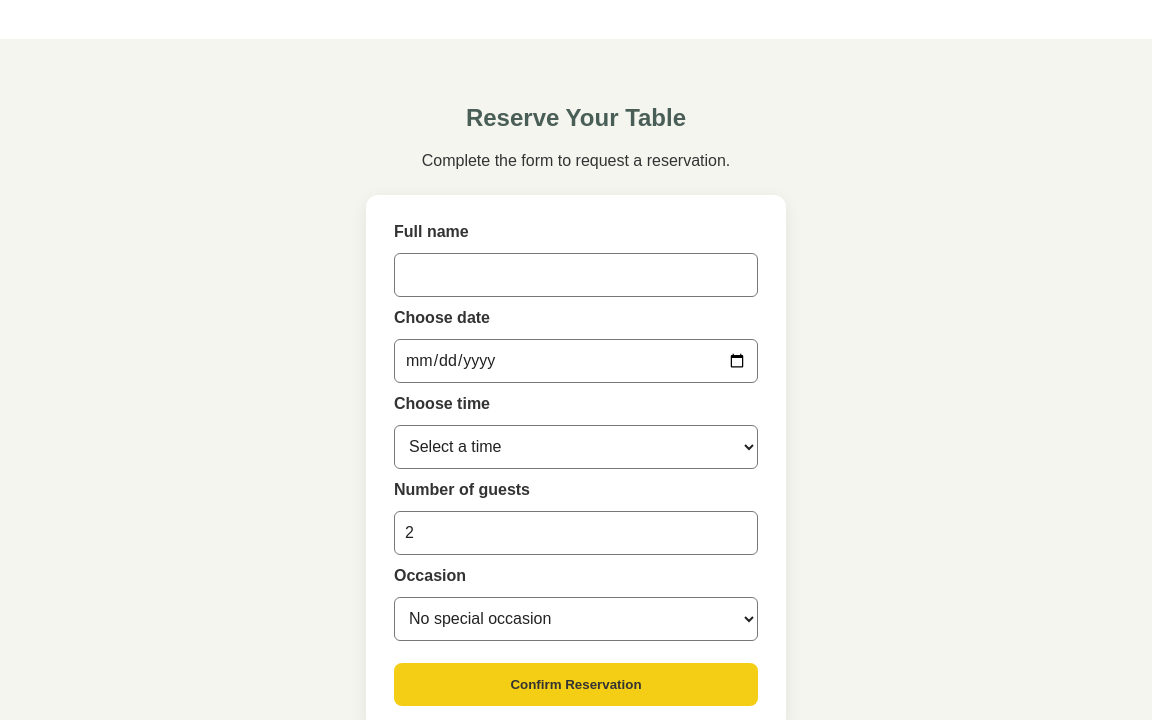
Test case: Little Lemon booking form › shows an error when the name is empty
The width and height of the screenshot is (1152, 720).
(page scrolled)
Type "2026-10-23" into the date field labelled "Choose date". click: (576, 361)
box: [394,339,758,383]
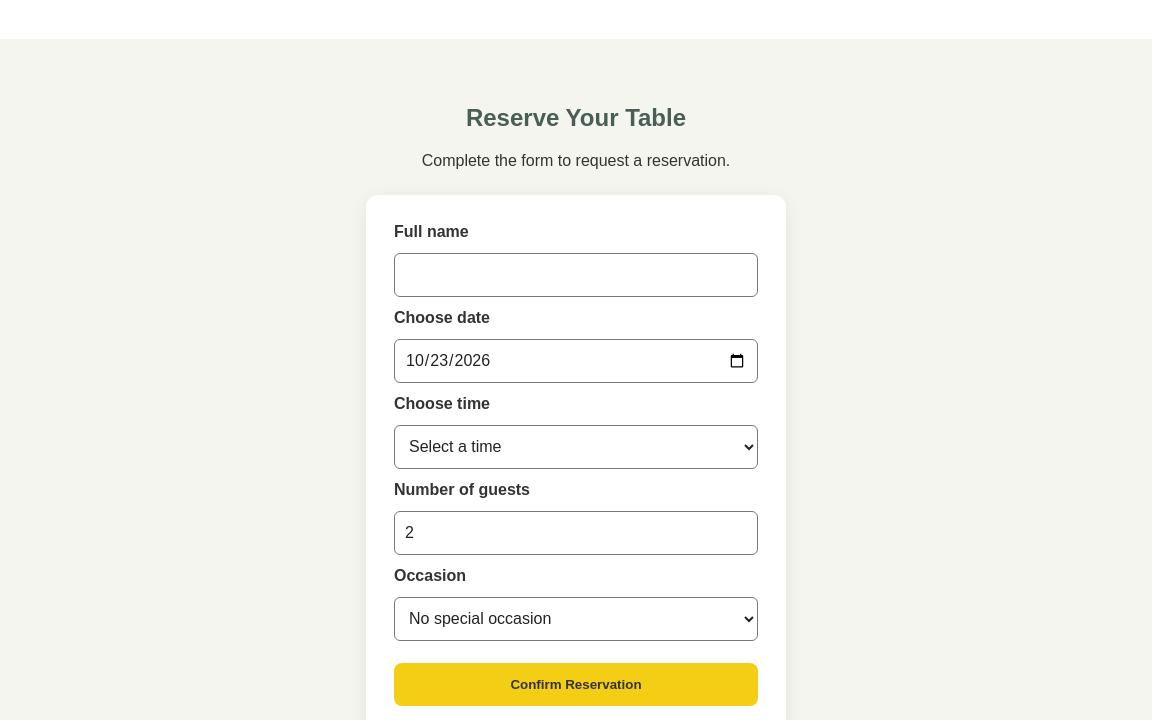
Select "18:00" in the dropdown labelled "Choose time". click: (576, 447)
box: [394,425,758,469]
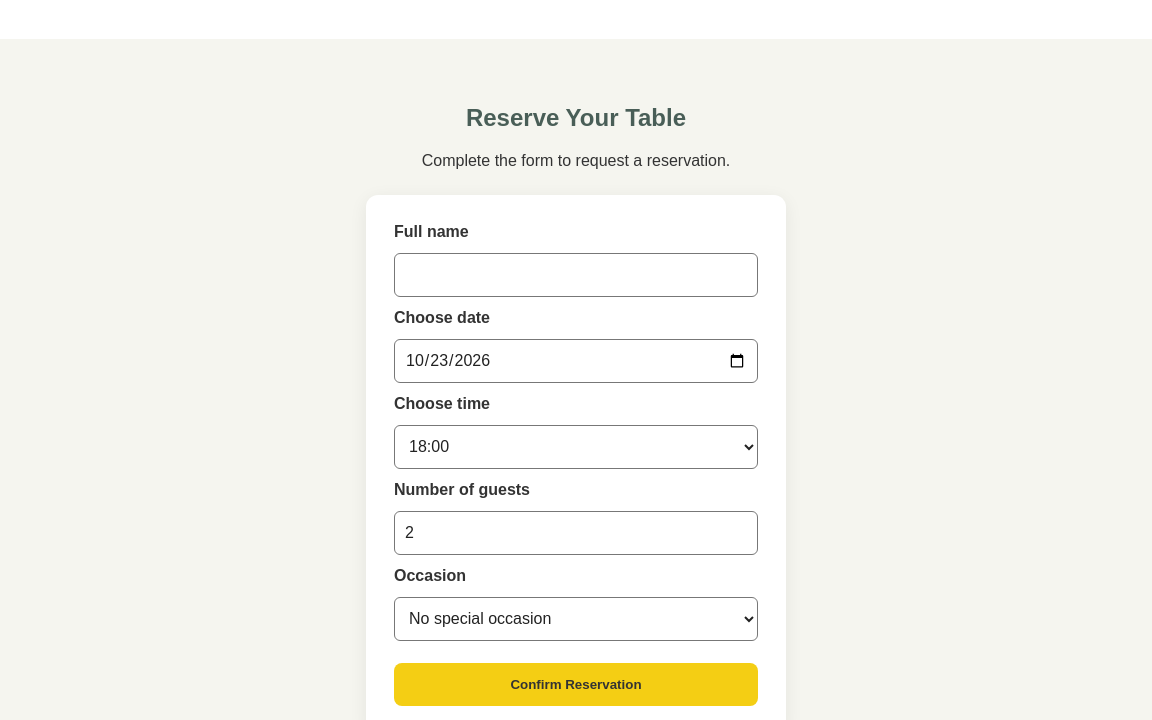
Click the button "Confirm Reservation". click: click(576, 684)
box: [394,663,758,706]
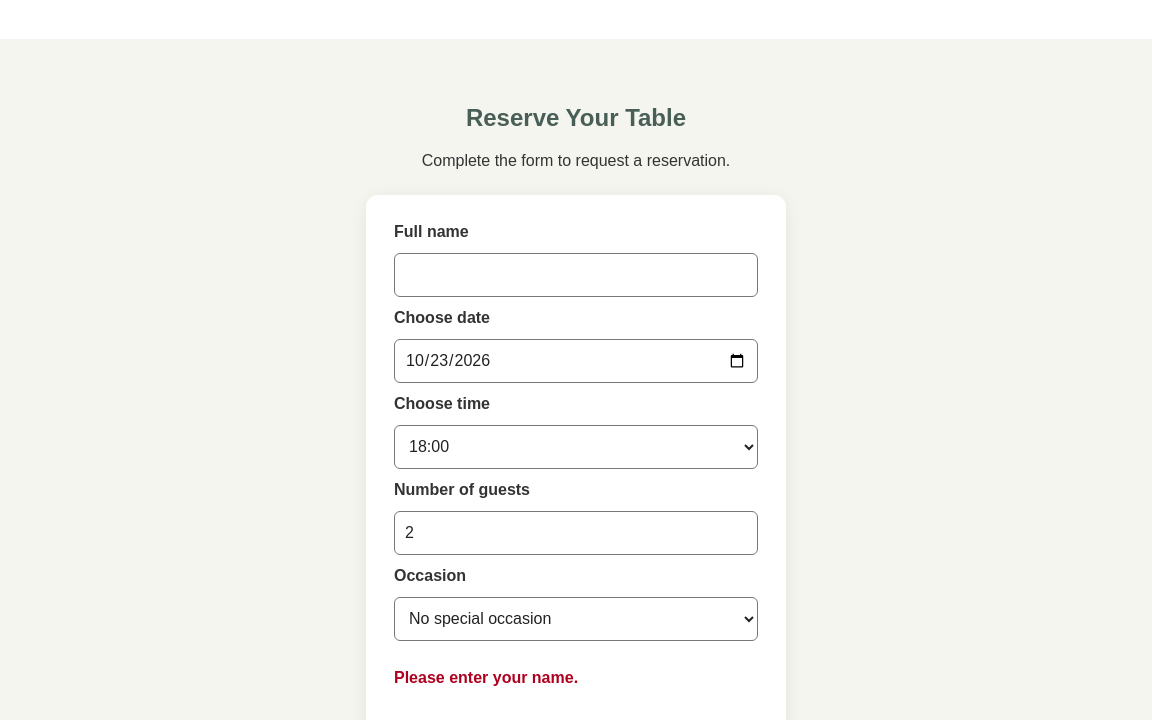
Now the message shows "Please enter your name", box [394,669,578,686]
